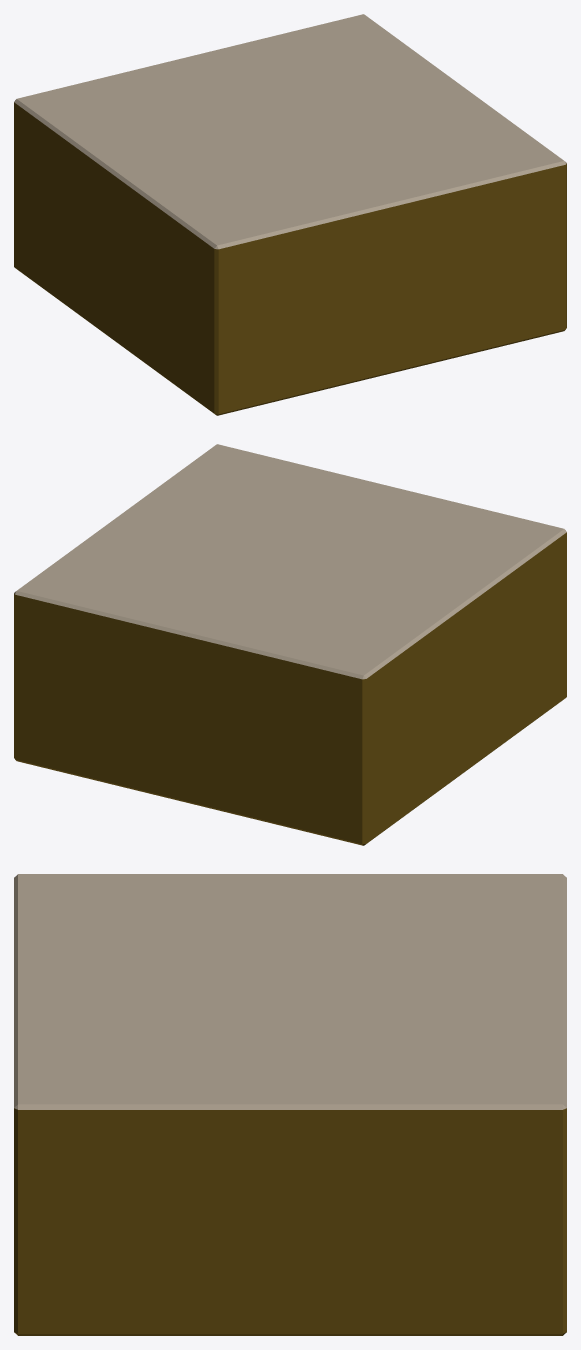
The model's file is foamStep.fbx.
3 renders of one model, top to bottom at view 1: azimuth 30°, elevation 25°; view 2: azimuth 150°, elevation 25°; view 3: azimuth 270°, elevation 25°, orthographic. The views are drawn at different scales.
Parts seen in each view (by area): view 1: foam; view 2: foam; view 3: foam.
Part boxes in pixels (bbox=[...]): foam: bbox=[14, 14, 566, 415]; foam: bbox=[14, 444, 566, 845]; foam: bbox=[14, 874, 566, 1335].
Bounding box in the file's own units: 17.5 × 8.08 × 17.5.
